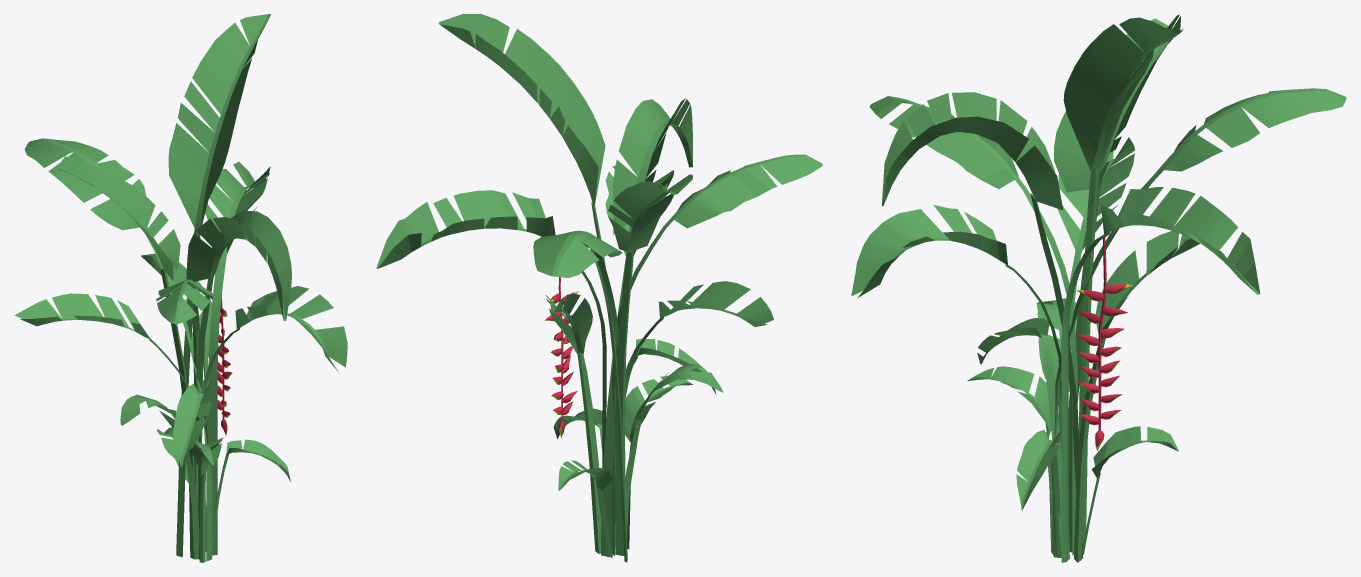
The model's file is plant_palm_D.fbx.
3 views of the same model, side by side, from view 1: azimuth 30°, elevation 25°; view 2: azimuth 150°, elevation 25°; view 3: azimuth 270°, elevation 25° (orthographic). The views are drawn at different scales.
Parts seen in each view (by area): view 1: plant_palm_D, plant_fruit_hang_A; view 2: plant_palm_D, plant_fruit_hang_A; view 3: plant_palm_D, plant_fruit_hang_A, plant_flower_C_twig.
Boxes of the visible parts, x1,y1,x2,y2 form: plant_palm_D: (14, 14, 347, 562); plant_fruit_hang_A: (211, 296, 232, 435); plant_palm_D: (376, 14, 822, 562); plant_fruit_hang_A: (545, 291, 578, 437); plant_palm_D: (851, 14, 1346, 562); plant_fruit_hang_A: (1075, 284, 1133, 450); plant_flower_C_twig: (1098, 237, 1106, 430).
Size of the model in its own units: 180 by 279 by 211.
